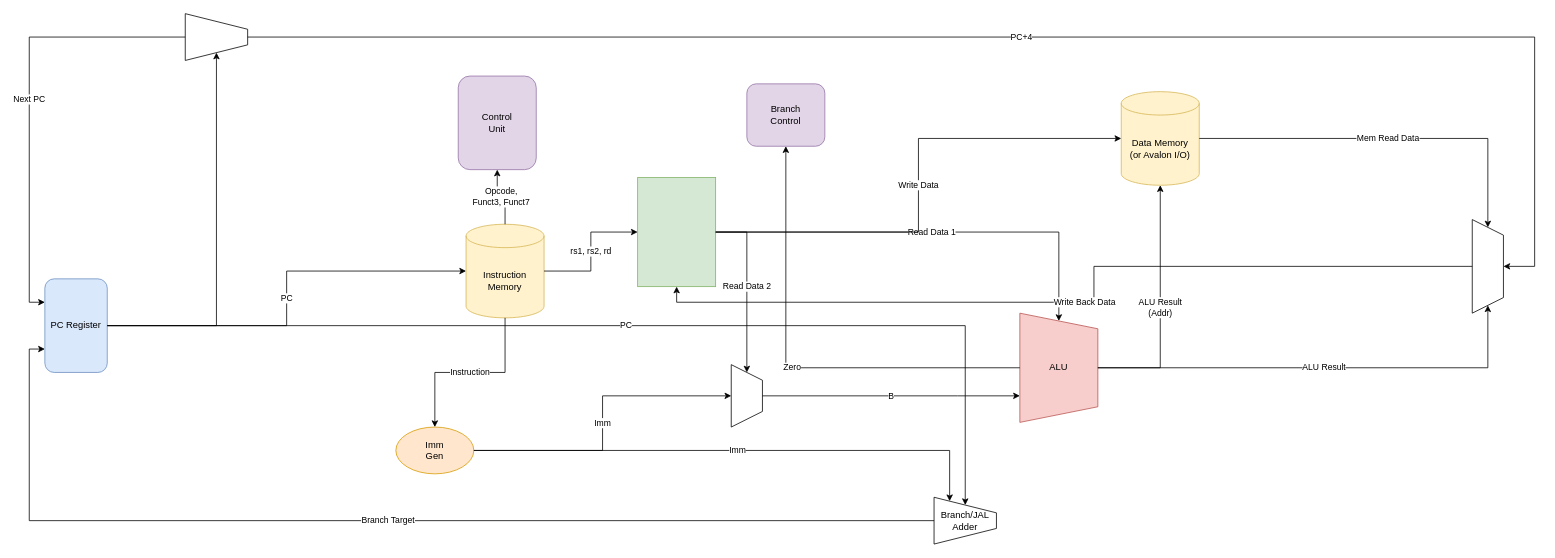
Some shapes in this 1555 by 558 pixel diagram are drawn without their labels. The shapes that lost their labels are listed below. From the top down, each one's centre as x and y in pixels, then its label:
the point at 216,36: PC + 4 Adder
the point at 676,232: Register File
the point at 1487,266: WB MUX
the point at 746,395: ALU MUX
